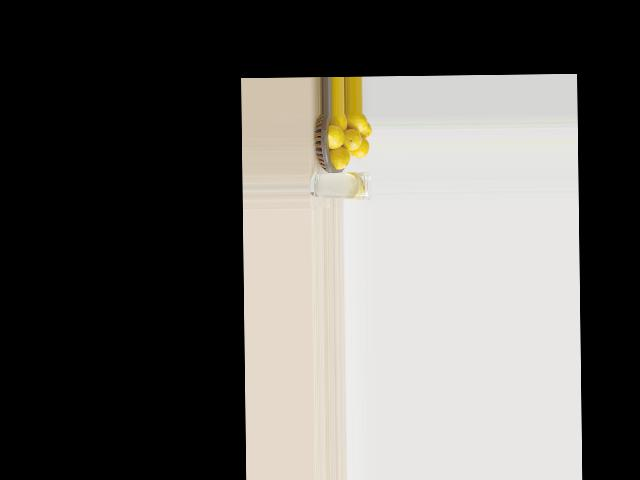lemon: (344, 113, 370, 134)
